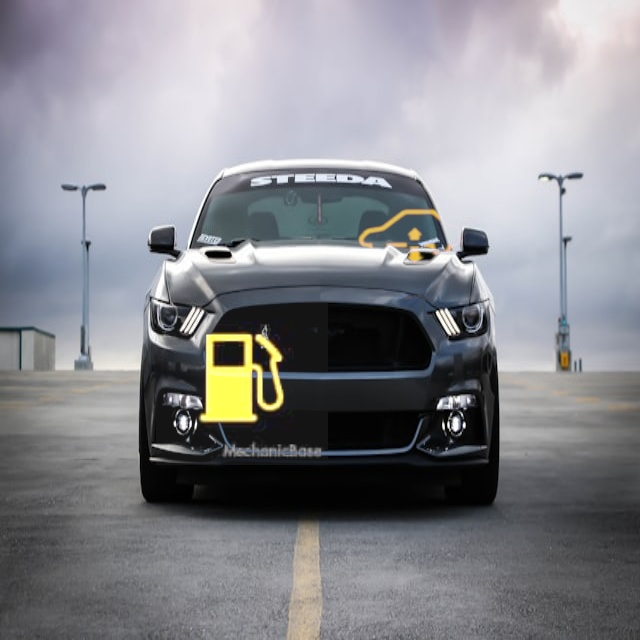symbol: (156, 293, 328, 465), (341, 170, 479, 308)
